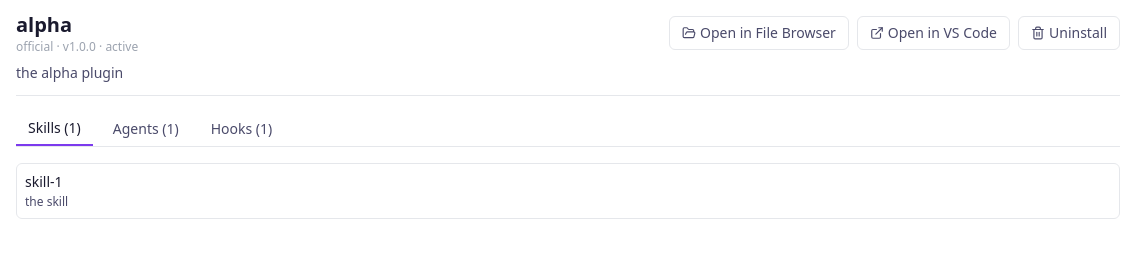
it: PluginDetailView › clicking Agents tab shows agent rows
Click the tab with test id "tab-agents" at [146, 129], box 101,112 -> 191,146
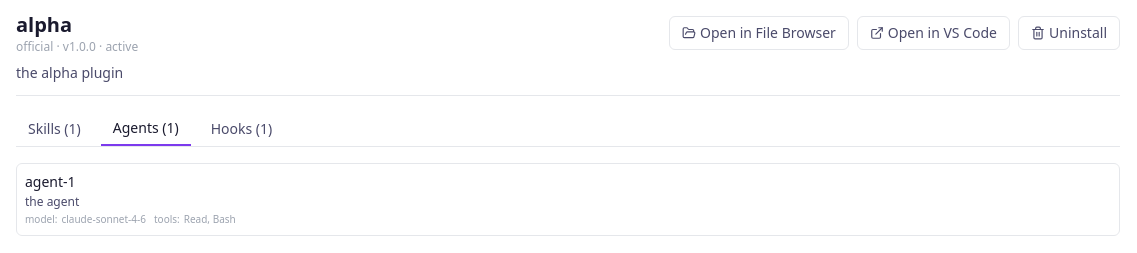
Expected: the list with test id "agents-list" is shown, 16,163 -> 1120,236
